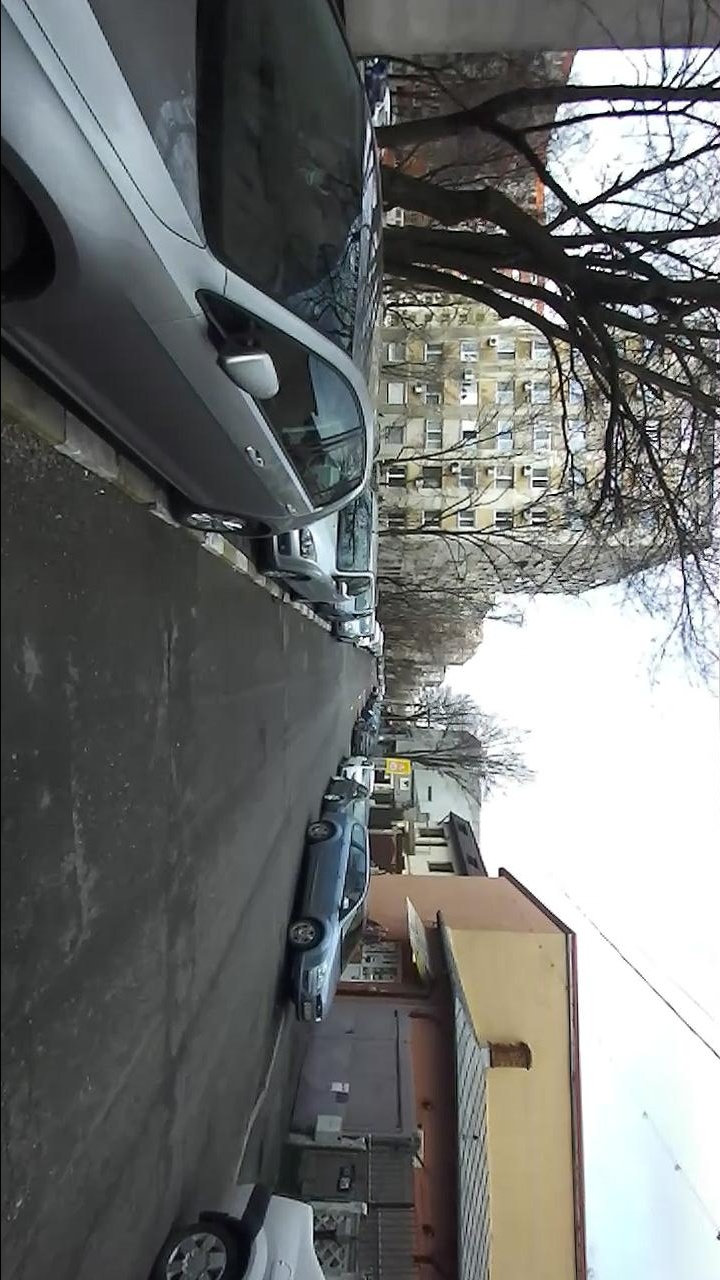pothole: (155, 617, 180, 706)
